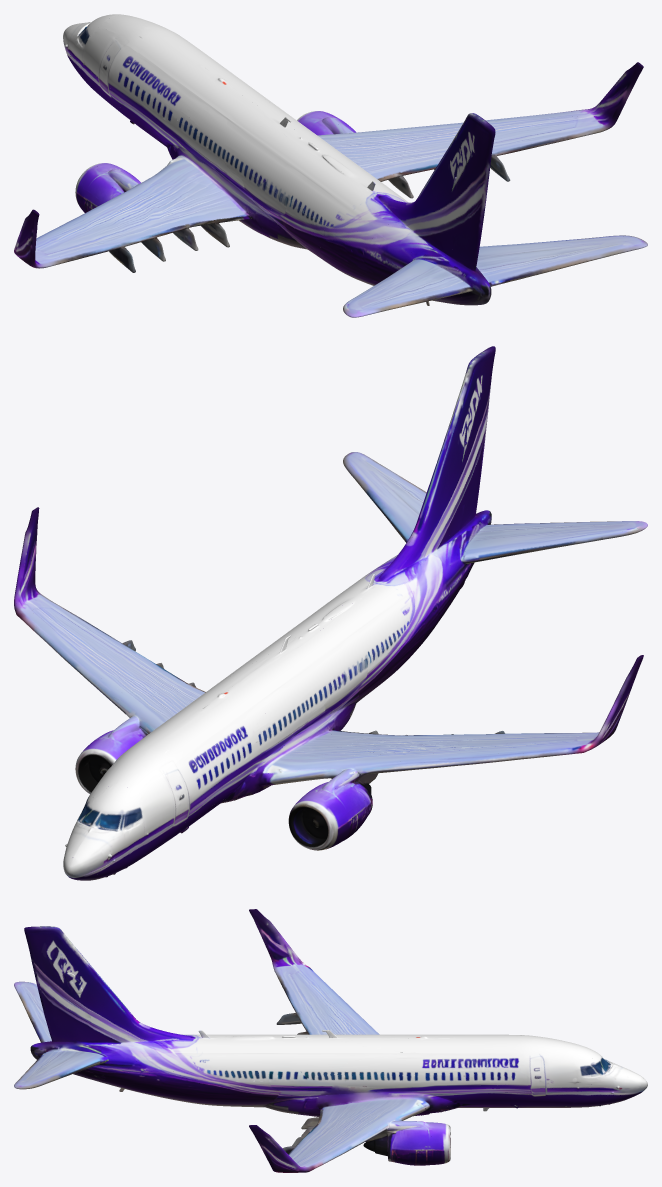
Rendered from boeing-737-800.glb.
3 renders of one model, top to bottom at view 1: azimuth 30°, elevation 25°; view 2: azimuth 150°, elevation 25°; view 3: azimuth 270°, elevation 25°, orthographic. The views are drawn at different scales.
Visible parts, largest first — view 1: boeing-737-800-airframe; view 2: boeing-737-800-airframe; view 3: boeing-737-800-airframe.
Boxes of the visible parts, left/top/right/bottom form: boeing-737-800-airframe: left=14, top=14, right=647, bottom=317; boeing-737-800-airframe: left=14, top=346, right=647, bottom=880; boeing-737-800-airframe: left=14, top=909, right=647, bottom=1172.
Size of the model in its own units: 40 by 17.03 by 49.42.
1 material, 1 textured.
